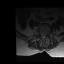CCS_normal: (42, 31, 44, 40)
LFS_stenosis: (46, 31, 48, 36)
LLS_normal: (44, 32, 46, 38)
RFS_stenosis: (39, 30, 40, 36)
RLS_normal: (40, 31, 42, 38)
